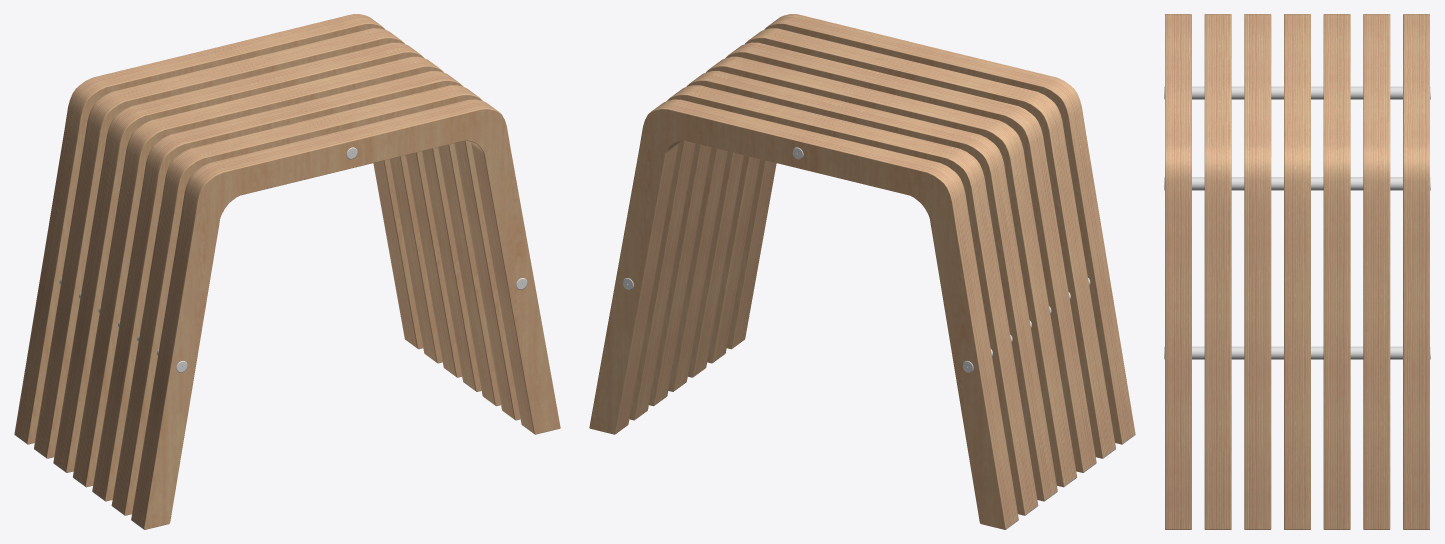
File: wood.glb
3 views of the same model, side by side, from view 1: azimuth 30°, elevation 25°; view 2: azimuth 150°, elevation 25°; view 3: azimuth 270°, elevation 25° (orthographic). The views are drawn at different scales.
Parts seen in each view (by area): view 1: Cube.001_Cube.000; view 2: Cube.001_Cube.000; view 3: Cube.001_Cube.000, Cylinder.000.
Part boxes in pixels (x1=…): Cube.001_Cube.000: x1=14, y1=14, x2=560, y2=529; Cube.001_Cube.000: x1=589, y1=14, x2=1135, y2=529; Cube.001_Cube.000: x1=1165, y1=14, x2=1429, y2=529; Cylinder.000: x1=1164, y1=86, x2=1430, y2=359.
Bounding box in the file's own units: 0.5599 × 0.4351 × 0.3037.
Materials: 2 (1 with a texture image).
